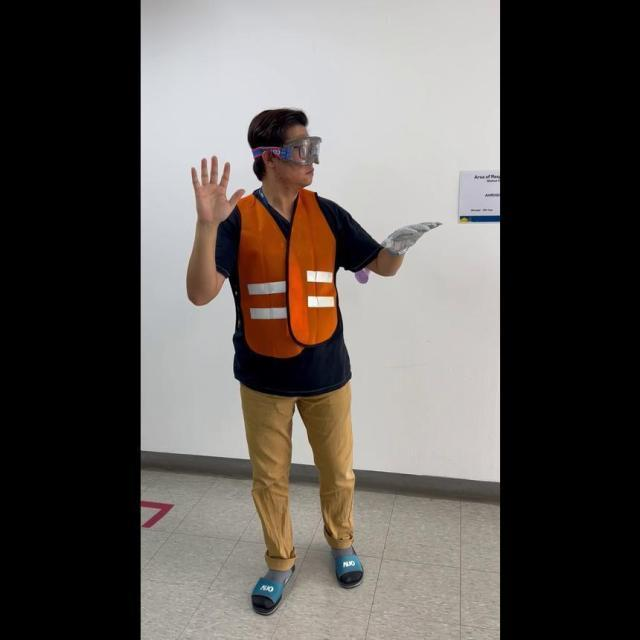bare_hand: (188, 149, 237, 223)
gloved_hand: (377, 215, 442, 257)
